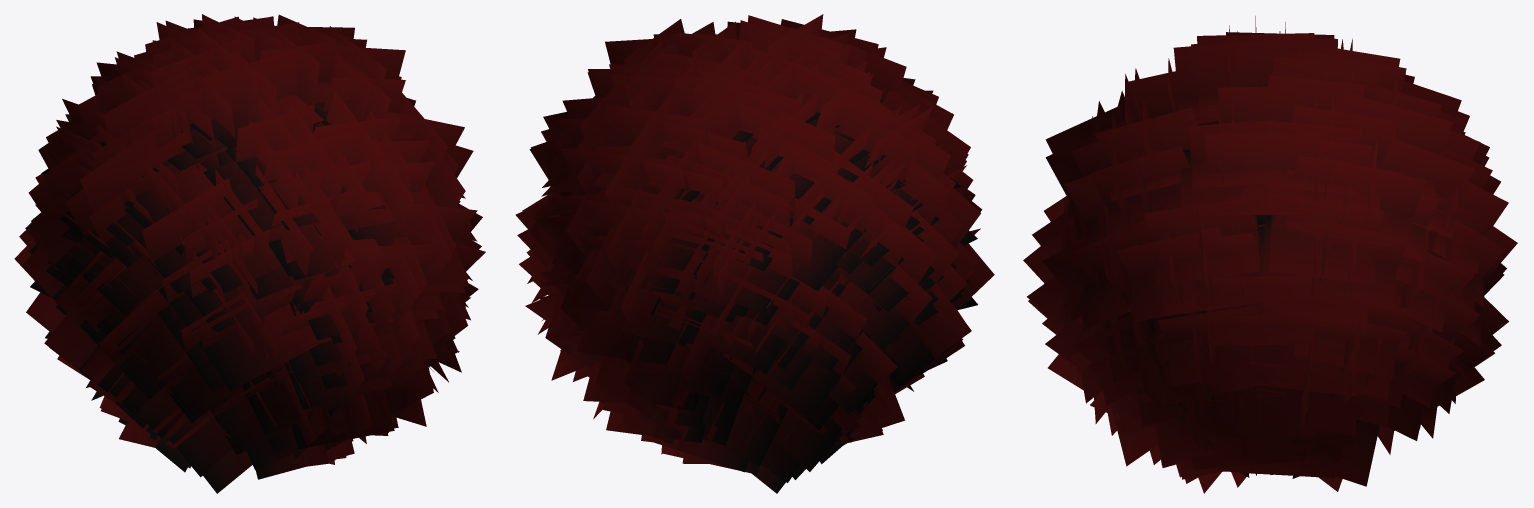
Rendered from HedgeBall.fbx.
3 renders of one model, left to right at view 1: azimuth 30°, elevation 25°; view 2: azimuth 150°, elevation 25°; view 3: azimuth 270°, elevation 25°, orthographic.
Parts seen in each view (by area): view 1: HedgeBall_LOD0; view 2: HedgeBall_LOD0; view 3: HedgeBall_LOD0.
Boxes of the visible parts, x1,y1,x2,y2 form: HedgeBall_LOD0: [14, 14, 485, 493]; HedgeBall_LOD0: [515, 14, 994, 493]; HedgeBall_LOD0: [1023, 16, 1517, 493].
Size of what is drawn, in the model's own units: 280 by 271 by 282.
